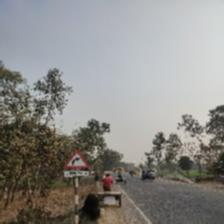Animal: (62, 145, 98, 179)
